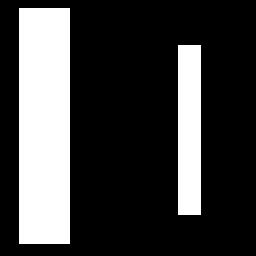person: (19, 8, 69, 243), (178, 45, 200, 214)
